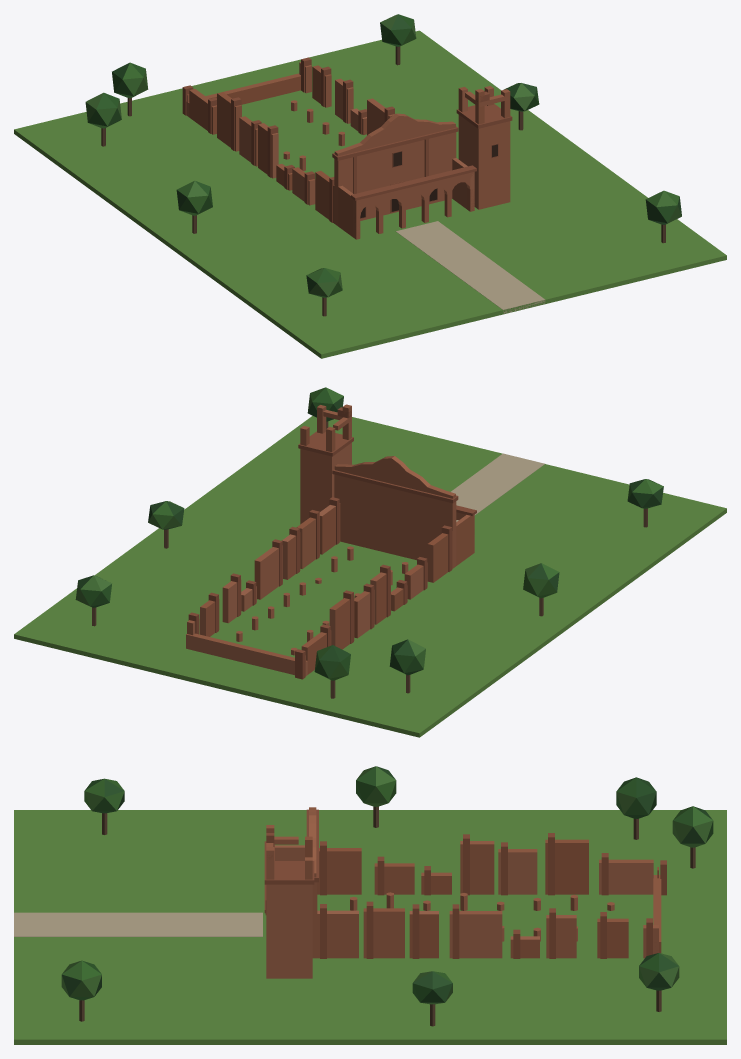
The model's file is sao_miguel_das_missoes.glb.
3 renders of one model, top to bottom at view 1: azimuth 30°, elevation 25°; view 2: azimuth 150°, elevation 25°; view 3: azimuth 270°, elevation 25°, orthographic. The views are drawn at different scales.
Parts seen in each view (by area): view 1: sao_miguel_das_missoes; view 2: sao_miguel_das_missoes; view 3: sao_miguel_das_missoes.
Boxes of the visible parts, box(x1,y1,x2,y2) form: sao_miguel_das_missoes: box(14, 14, 726, 358); sao_miguel_das_missoes: box(14, 387, 726, 737); sao_miguel_das_missoes: box(14, 766, 726, 1044).
Size of the model in its own units: 96 by 27.5 by 126.
